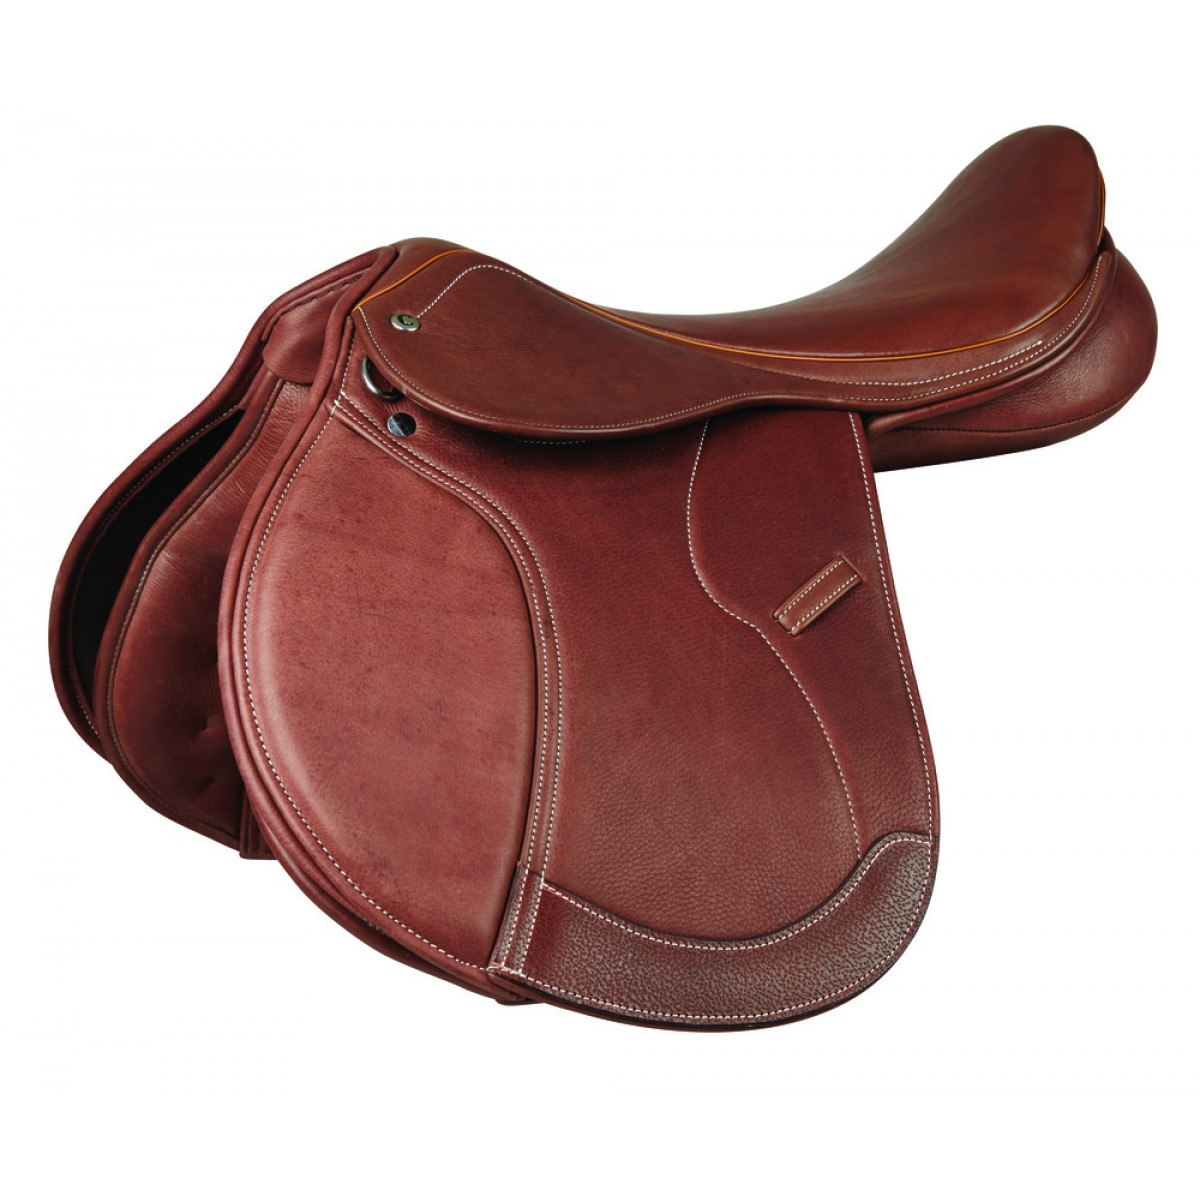saddle: (73, 137, 1170, 1029)
